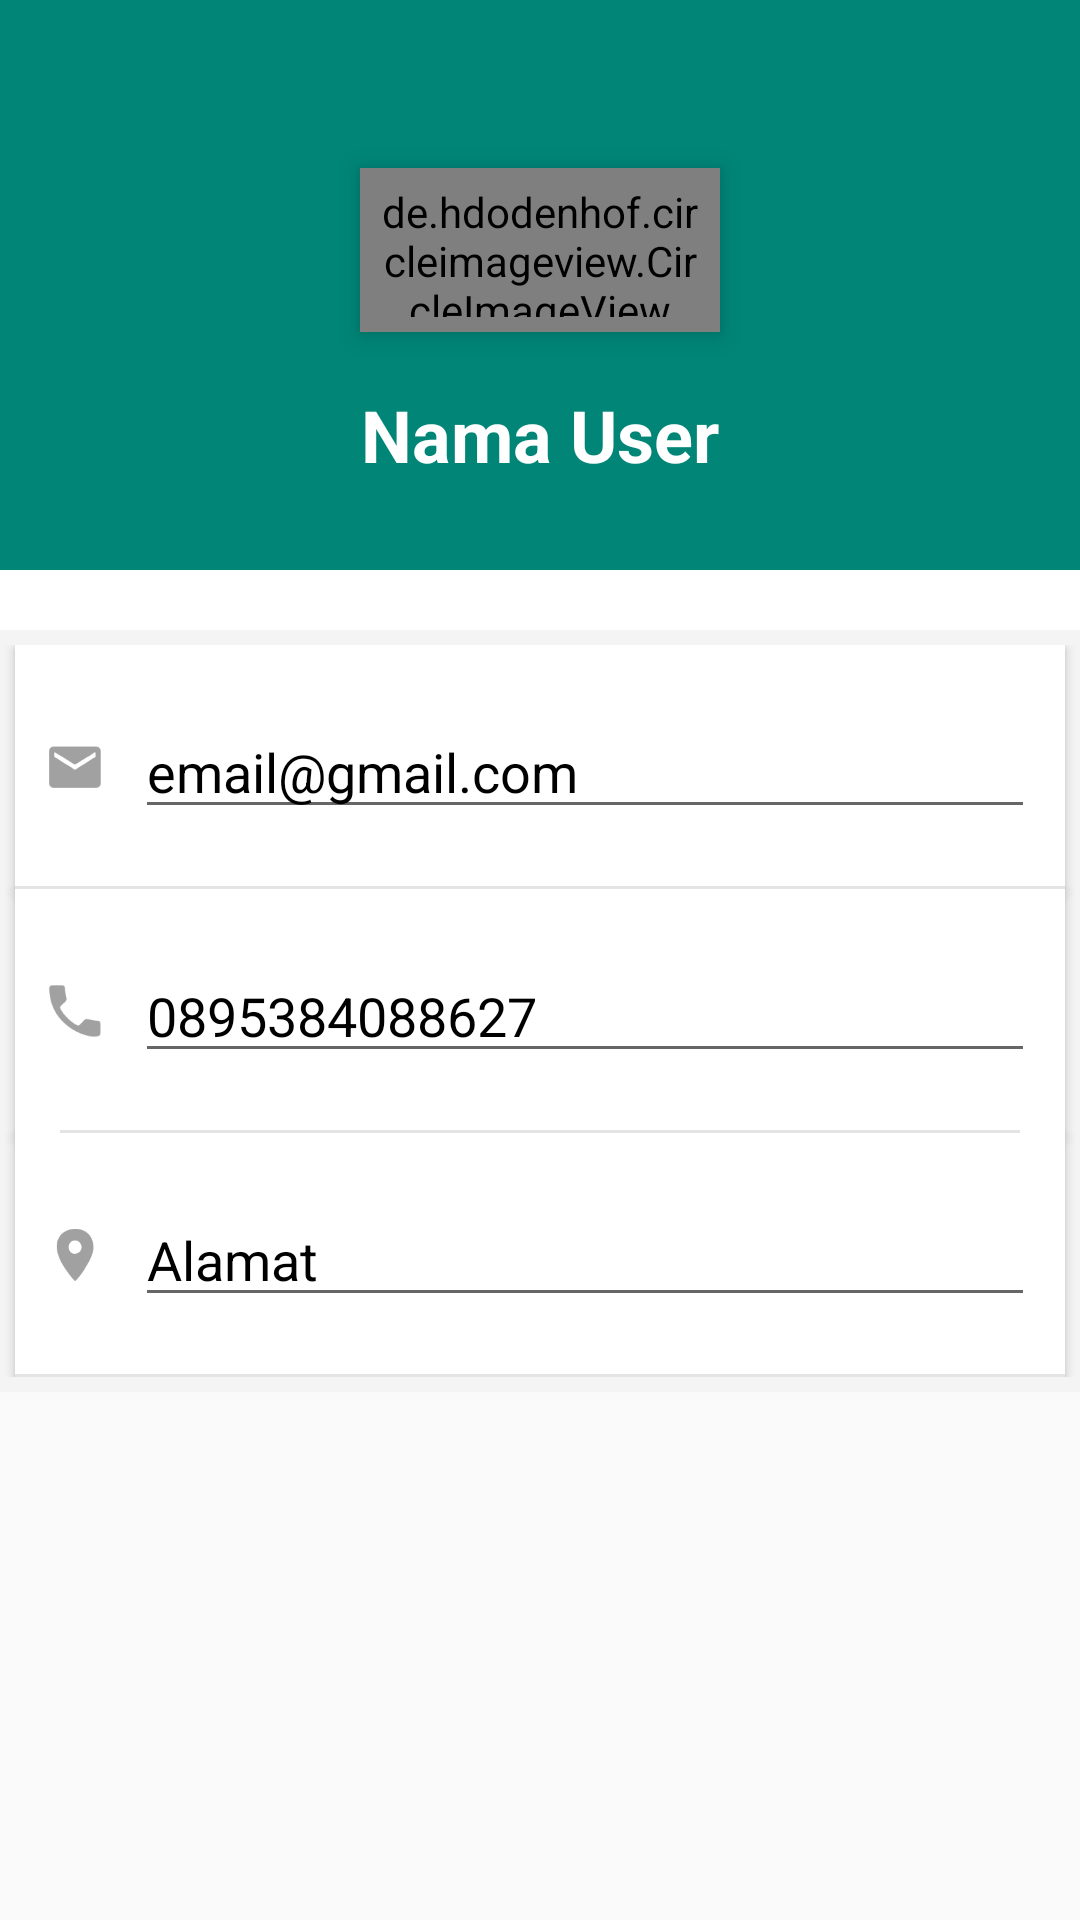

Icon bounding boxes for this 1080x1920 phone screenshot, format box=[x1, y1, x2, y2]:
lokasi: box=[57, 1229, 94, 1281]
pesan: box=[49, 746, 101, 788]
telp: box=[49, 985, 101, 1037]
